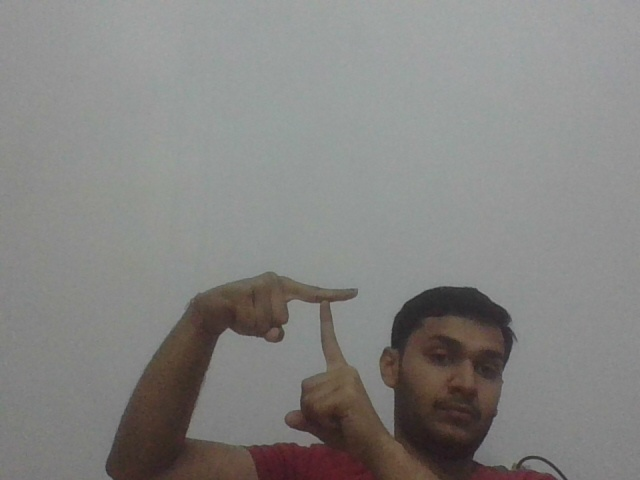T: (290, 272, 361, 367)
